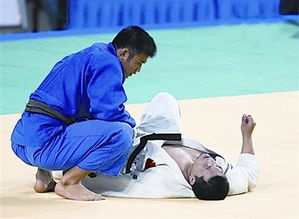falling: (51, 89, 281, 200)
